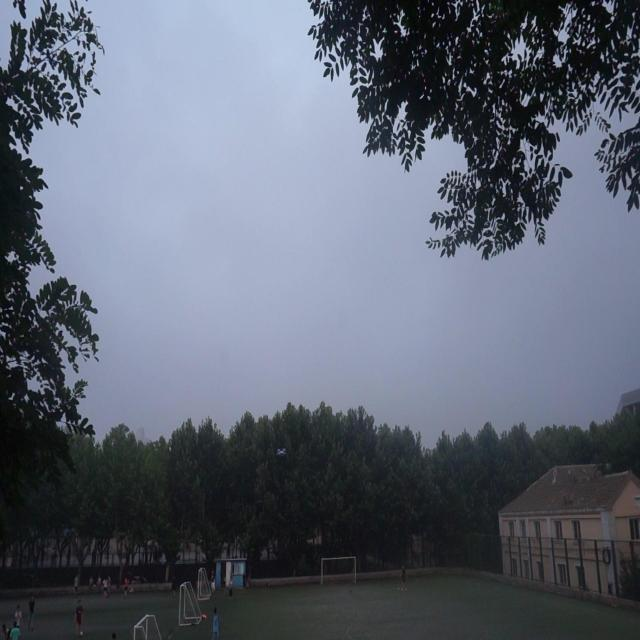drone: (275, 445, 288, 461)
